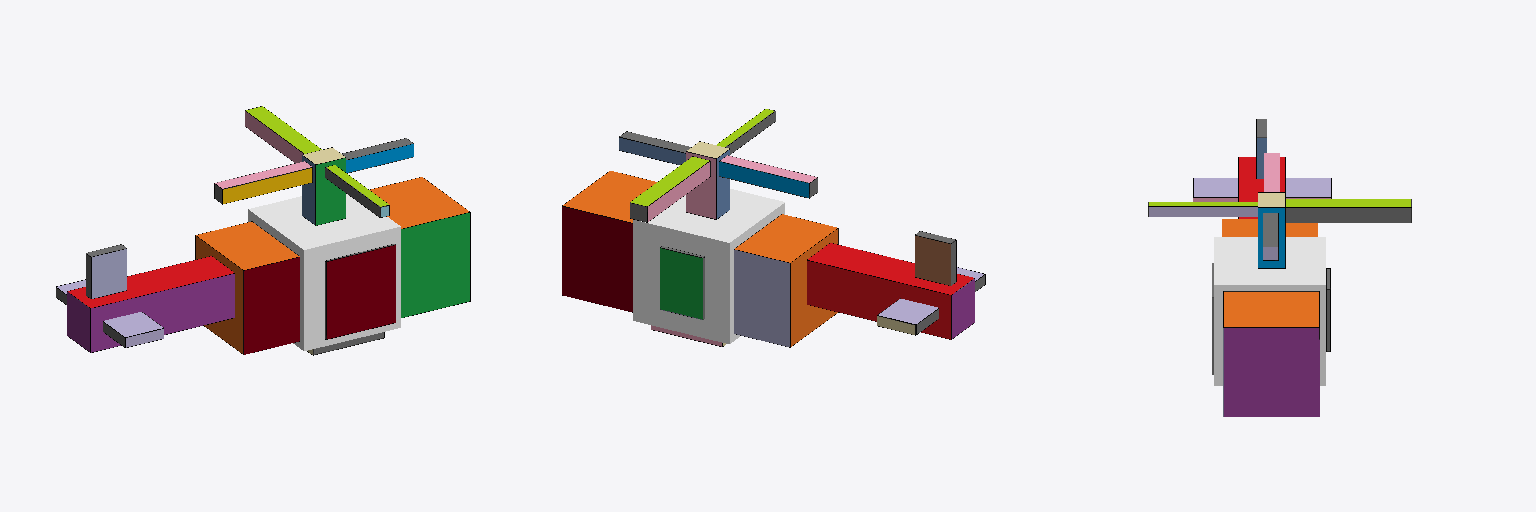
3 views of the same model, side by side, from view 1: azimuth 30°, elevation 25°; view 2: azimuth 150°, elevation 25°; view 3: azimuth 270°, elevation 25° (orthographic).
Visible parts, largest first — view 1: Kostka.010; view 2: Kostka.010; view 3: Kostka.010.
Part boxes in pixels (bbox=[...]): Kostka.010: bbox=[56, 106, 470, 355]; Kostka.010: bbox=[562, 109, 985, 347]; Kostka.010: bbox=[1148, 119, 1411, 416].
Size of the model in its own units: 7.69 by 3.45 by 4.72.
2 materials, 1 textured.